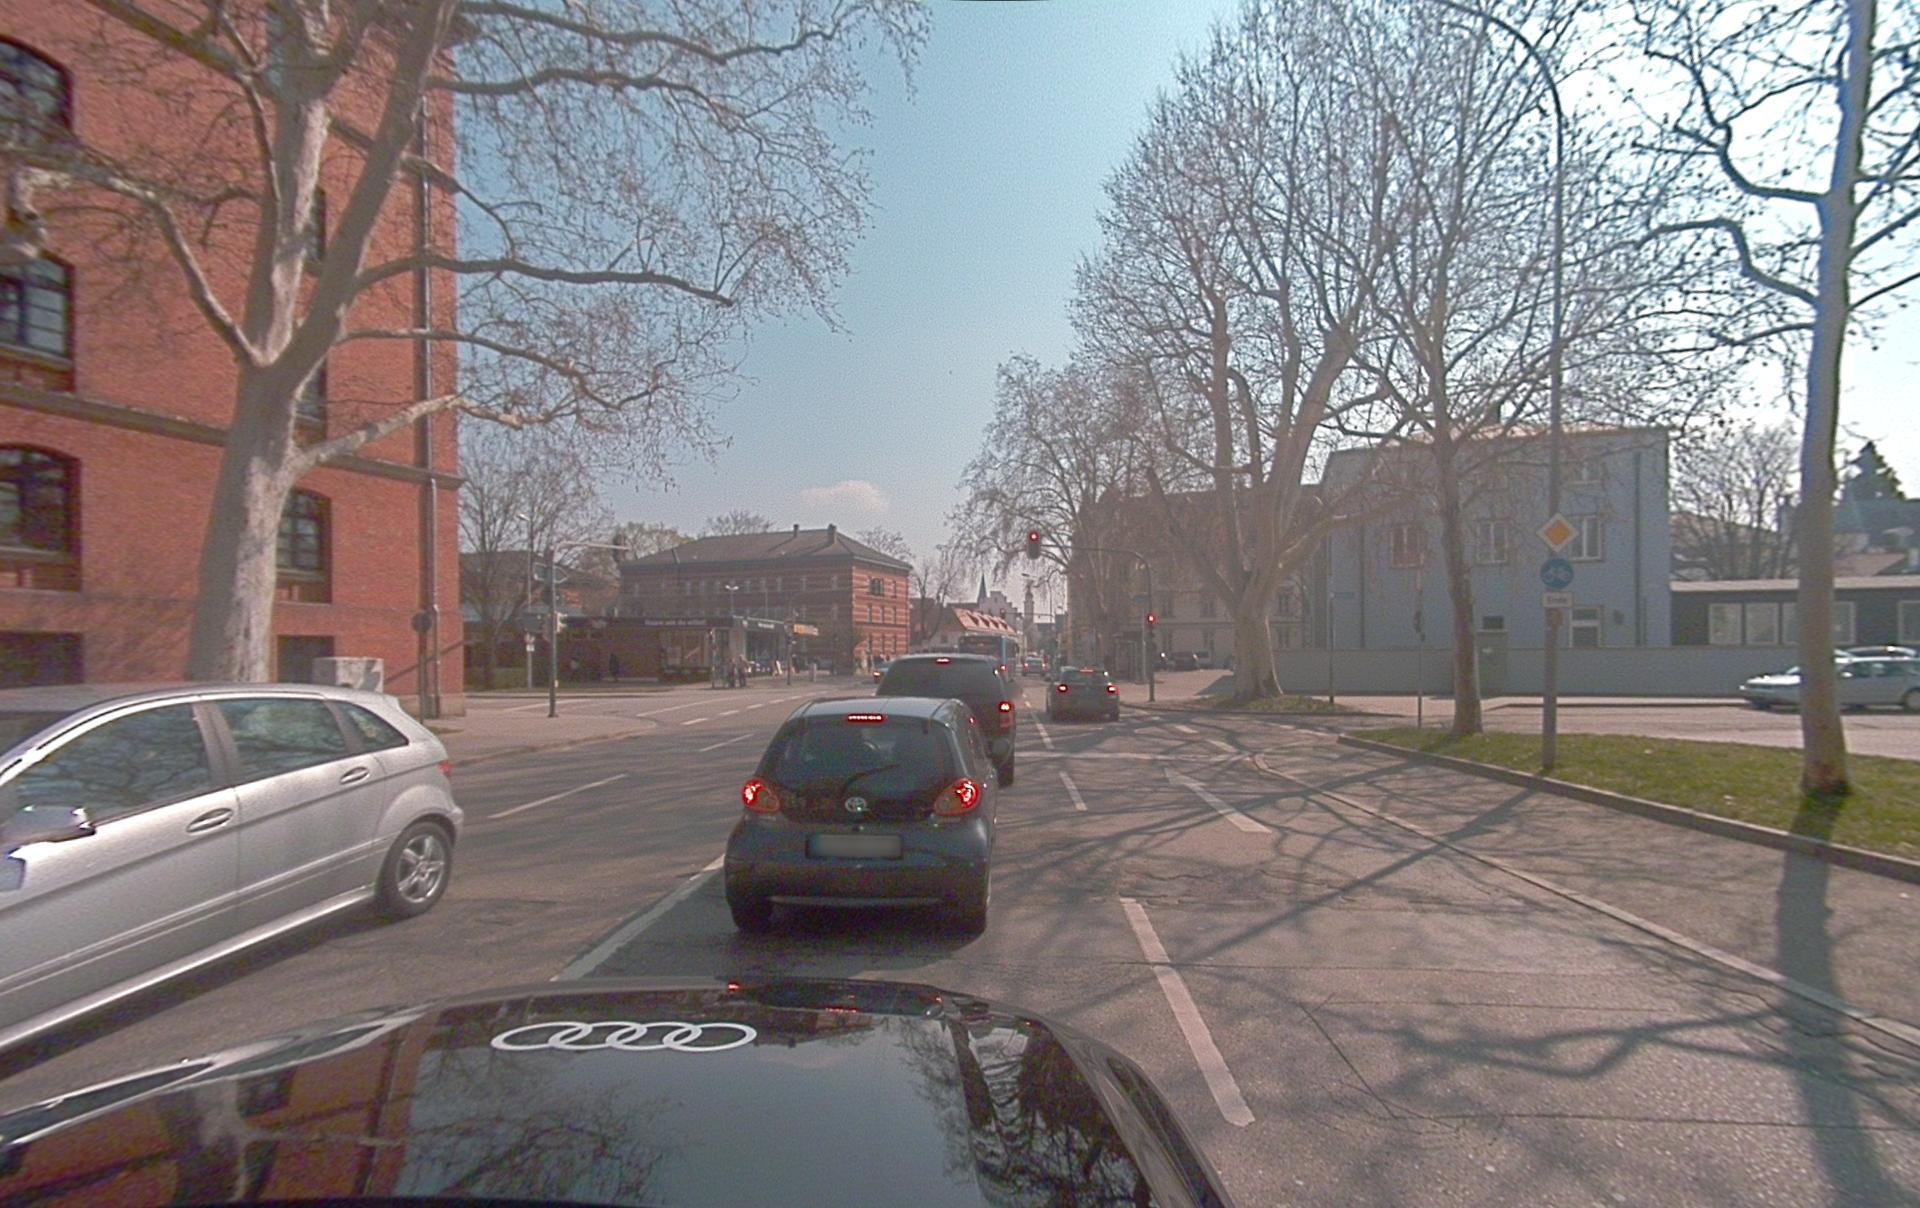car: (0, 976, 1238, 1207), (0, 681, 463, 1051), (723, 696, 999, 934), (875, 653, 1016, 788), (1739, 649, 1920, 714), (1046, 665, 1120, 721), (1021, 654, 1046, 676)
traffic sign: (1539, 557, 1575, 590)
